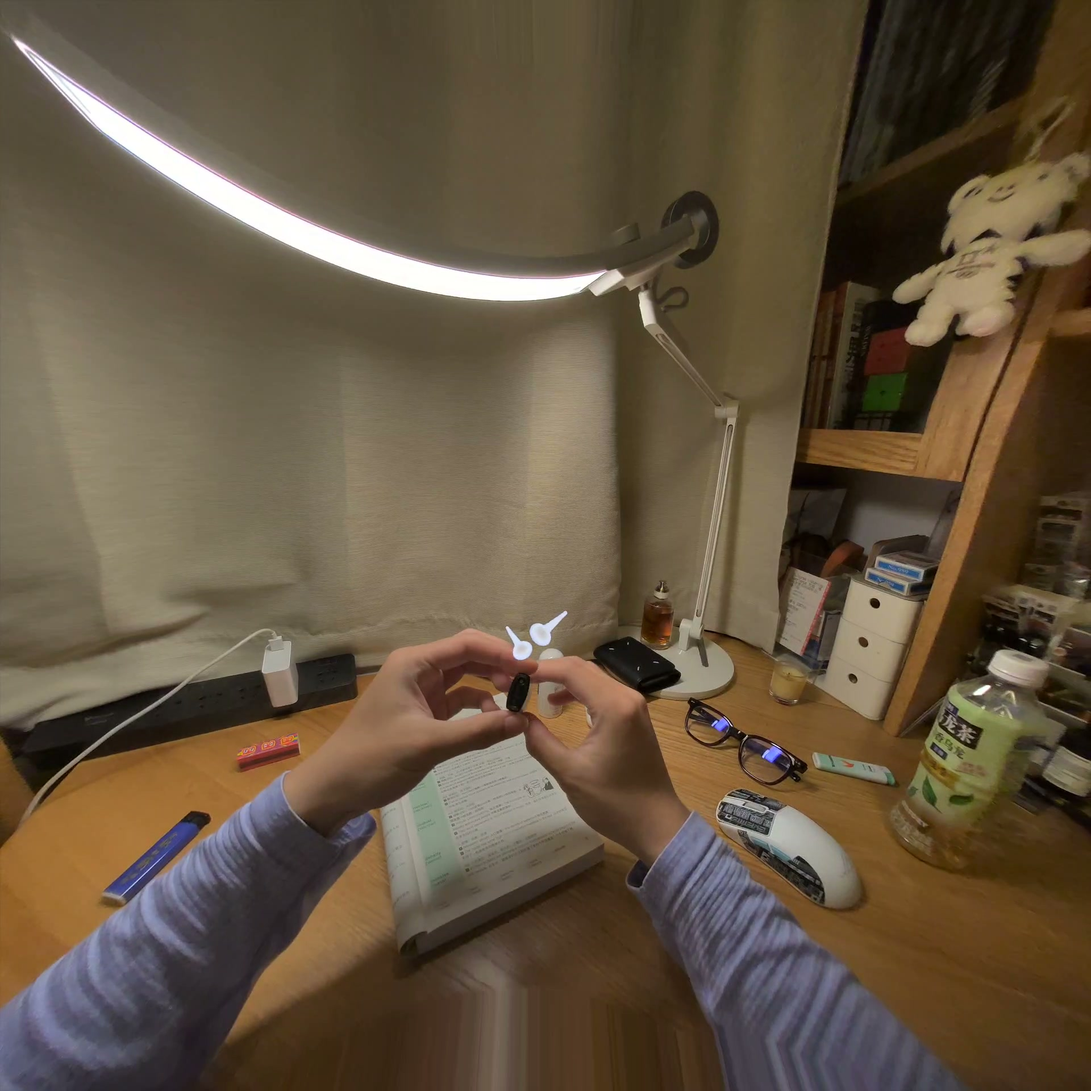lighter: (506, 673, 530, 712)
